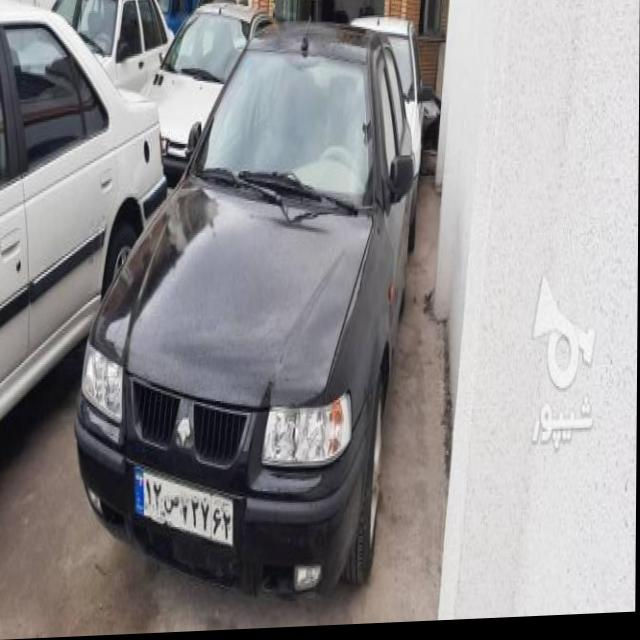licence: (131, 463, 234, 554)
